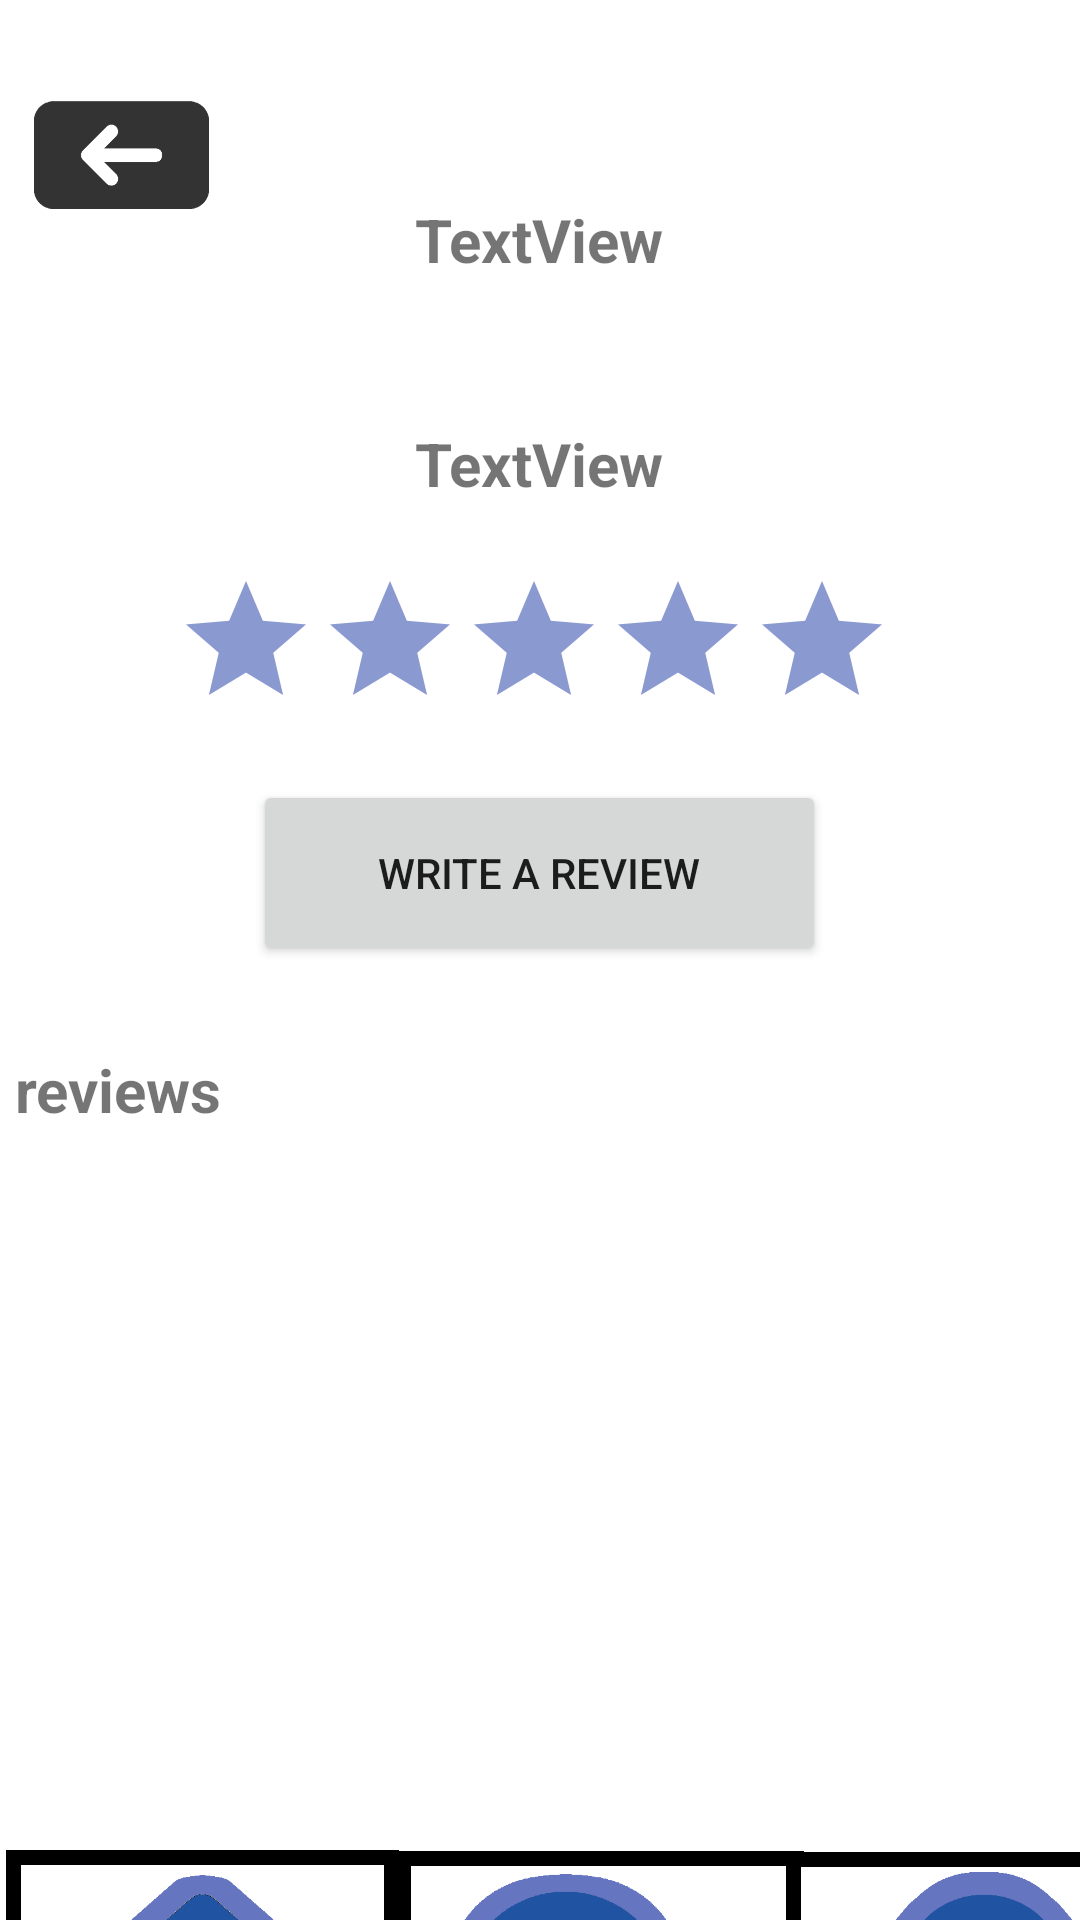

Icon click points for this 1080 x 1920 phone screenshot, format (x=x, y=y):
back: (x=121, y=155)
